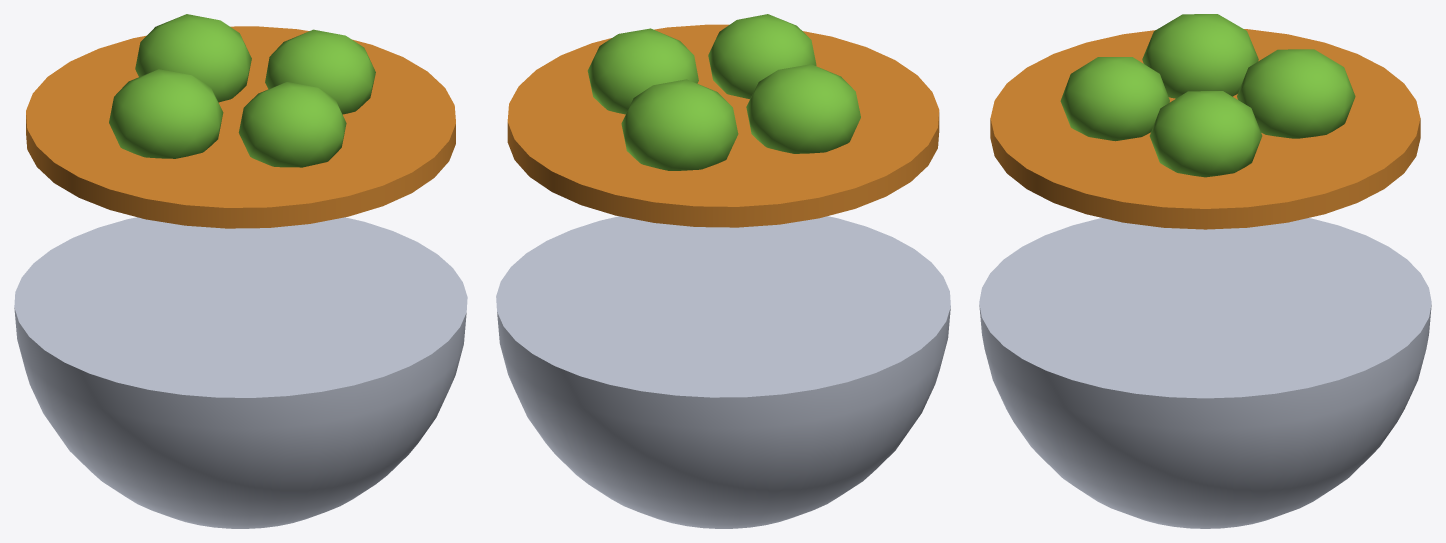
Rendered from item_veg_cook.glb.
The picture shows the model from 3 angles, left to right: view 1: azimuth 30°, elevation 25°; view 2: azimuth 150°, elevation 25°; view 3: azimuth 270°, elevation 25°; orthographic projection.
Parts seen in each view (by area): view 1: bowl, stew, veg.002, veg.003, veg.001, veg; view 2: bowl, stew, veg.001, veg.002, veg, veg.003; view 3: bowl, stew, veg.001, veg, veg.002, veg.003.
Part boxes in pixels (x1,y1,x2,y2): bowl: [14, 217, 467, 528]; stew: [26, 26, 455, 228]; veg.002: [109, 69, 223, 158]; veg.003: [238, 82, 346, 167]; veg.001: [135, 14, 251, 102]; veg: [265, 29, 375, 114]; bowl: [496, 216, 950, 528]; stew: [507, 24, 939, 227]; veg.001: [621, 79, 738, 170]; veg.002: [746, 64, 860, 153]; veg: [587, 28, 698, 114]; veg.003: [708, 14, 816, 99]; bowl: [979, 218, 1431, 528]; stew: [990, 29, 1420, 229]; veg.001: [1237, 49, 1355, 138]; veg: [1149, 91, 1262, 177]; veg.002: [1142, 14, 1258, 98]; veg.003: [1060, 57, 1169, 141].
Bounding box in the file's own units: 0.4 × 0.442 × 0.4.
